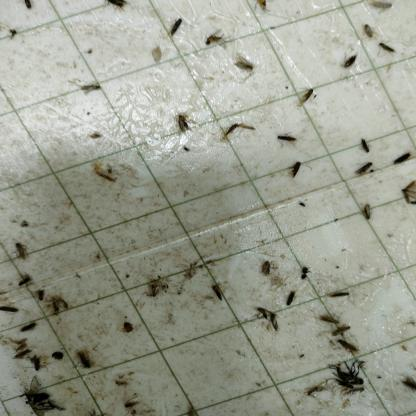prays_oleae: (20, 375, 56, 409), (399, 175, 416, 218), (329, 316, 355, 342), (262, 298, 276, 345), (47, 293, 69, 322), (80, 80, 104, 106), (202, 27, 225, 54), (315, 310, 342, 332), (12, 234, 31, 265), (236, 55, 257, 83), (173, 110, 192, 140), (338, 336, 358, 364), (357, 130, 375, 161), (296, 81, 315, 110), (75, 346, 94, 375), (391, 153, 416, 174), (122, 310, 139, 340), (354, 164, 377, 184), (276, 133, 297, 154), (212, 277, 227, 305), (362, 18, 376, 48), (360, 198, 374, 227), (112, 372, 132, 392), (378, 36, 394, 60), (343, 54, 360, 76), (0, 303, 18, 323), (282, 284, 294, 312), (122, 393, 142, 408), (291, 161, 303, 184), (169, 20, 185, 36), (30, 353, 41, 375), (330, 292, 350, 304), (372, 1, 392, 13), (7, 26, 18, 47), (20, 324, 39, 335), (52, 346, 64, 362), (18, 278, 33, 286)
